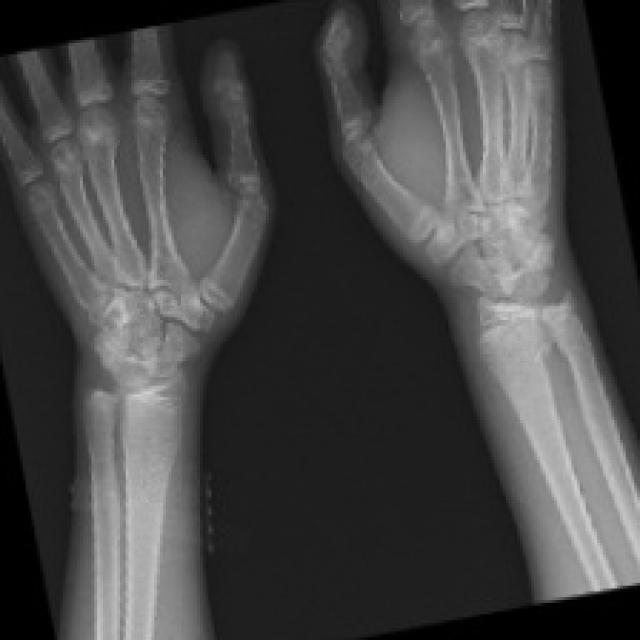fracture: (54, 328, 158, 424)
